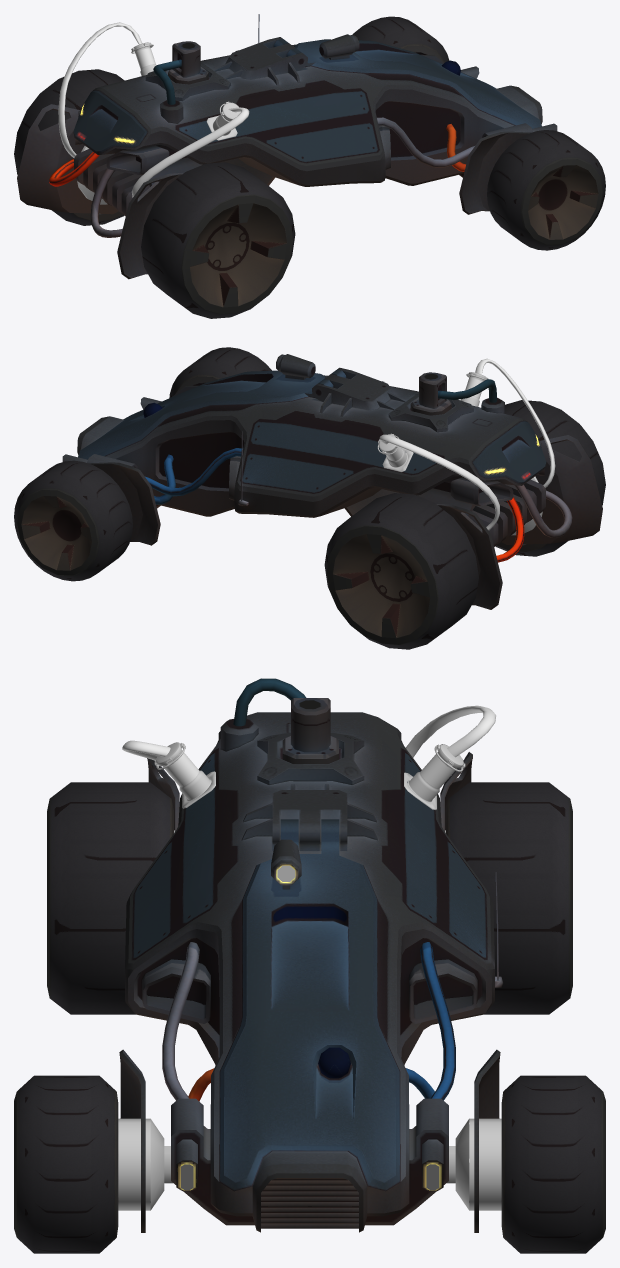
The model's file is Buggy EX 1.fbx.
The picture shows the model from 3 angles, top to bottom: view 1: azimuth 30°, elevation 25°; view 2: azimuth 150°, elevation 25°; view 3: azimuth 270°, elevation 25°; orthographic projection. The views are drawn at different scales.
Visible parts, largest first — view 1: Suspension_R.R, Wheel_R.R, Wheel_F.R, Wheel_R.L, Wheel_F.L; view 2: Suspension_R.R, Wheel_R.L, Wheel_F.L, Wheel_R.R, Wheel_F.R; view 3: Suspension_R.R, Wheel_R.R, Wheel_R.L, Wheel_F.L, Wheel_F.R.
Boxes of the visible parts, left/top/right/bottom form: Suspension_R.R: left=17, top=22, right=557, bottom=279; Wheel_R.R: left=141, top=162, right=295, bottom=318; Wheel_F.R: left=487, top=130, right=605, bottom=250; Wheel_R.L: left=14, top=69, right=124, bottom=225; Wheel_F.L: left=353, top=16, right=449, bottom=62; Suspension_R.R: left=62, top=354, right=602, bottom=609; Wheel_R.L: left=324, top=493, right=478, bottom=649; Wheel_F.L: left=14, top=460, right=132, bottom=581; Wheel_R.R: left=495, top=400, right=605, bottom=556; Wheel_F.R: left=169, top=347, right=271, bottom=397; Suspension_R.R: left=118, top=678, right=502, bottom=1232; Wheel_R.R: left=47, top=782, right=173, bottom=1014; Wheel_R.L: left=446, top=782, right=572, bottom=1014; Wheel_F.L: left=501, top=1075, right=605, bottom=1253; Wheel_F.R: left=14, top=1075, right=118, bottom=1253.
Bounding box in the file's own units: 353 × 151 × 249.
